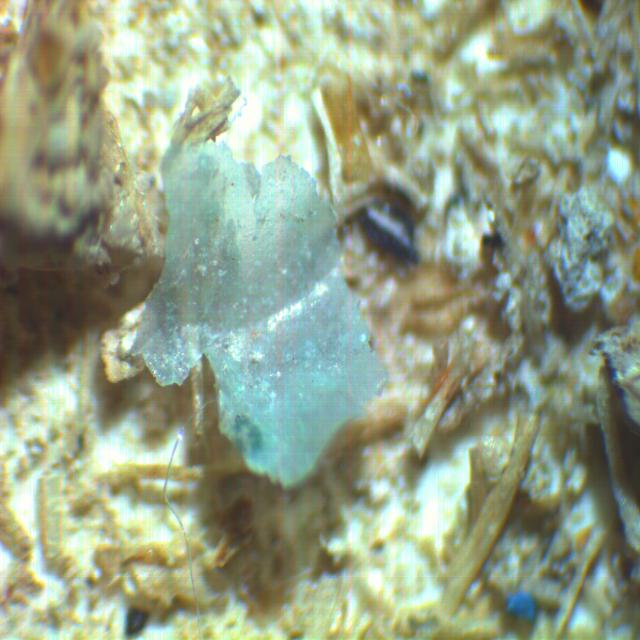microplastic: (131, 138, 393, 497)
